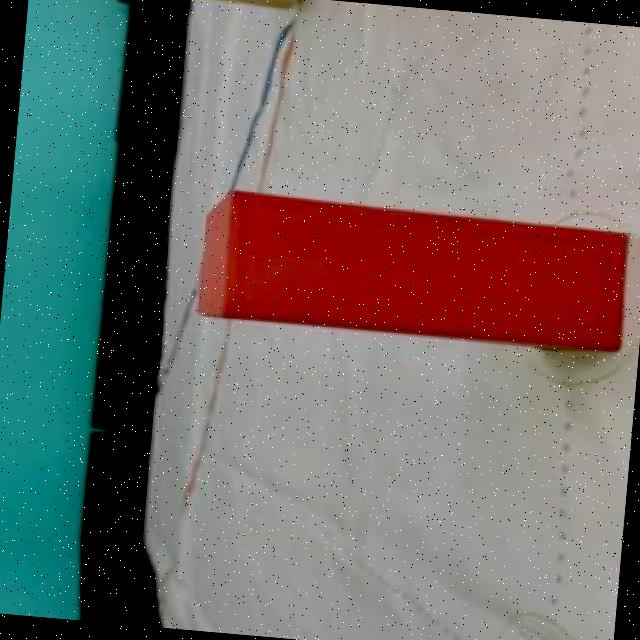redbox: (194, 194, 633, 353)
